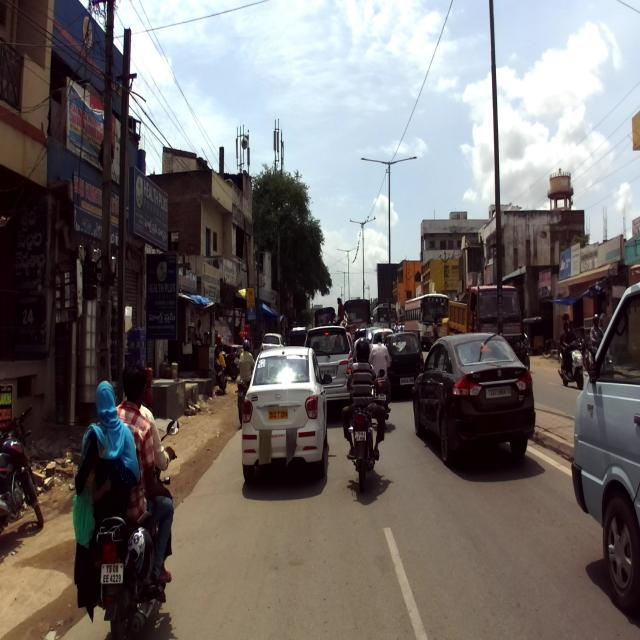car: (413, 333, 536, 464), (240, 345, 332, 488)
motorcycle: (90, 418, 180, 638), (0, 403, 45, 535), (344, 367, 385, 491)
